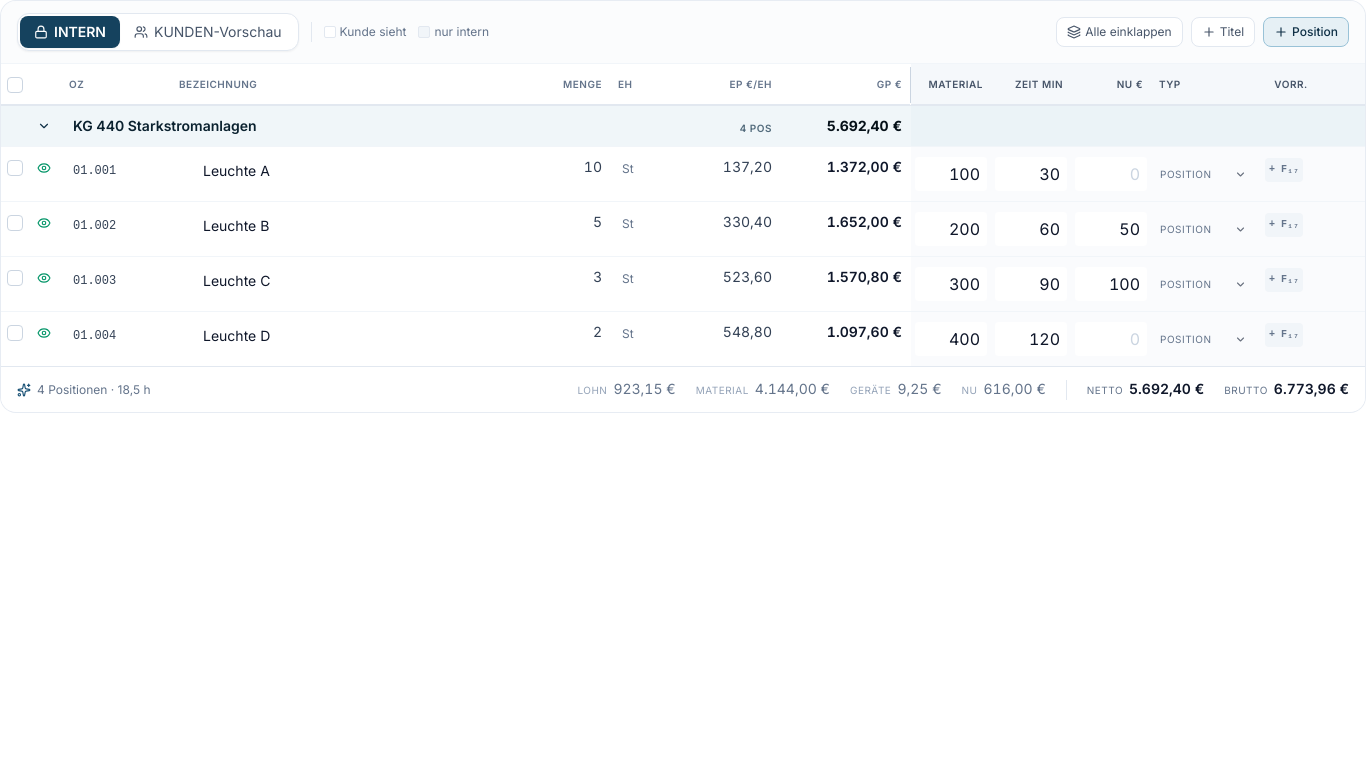
Test case: PositionTableV2 bulk-edit — selection mechanics › selecting a row shows the bulk bar with the correct count
Click the checkbox with test id "v2-select-row-r1" at (15, 168), box x1=7 y1=160 x2=23 y2=176
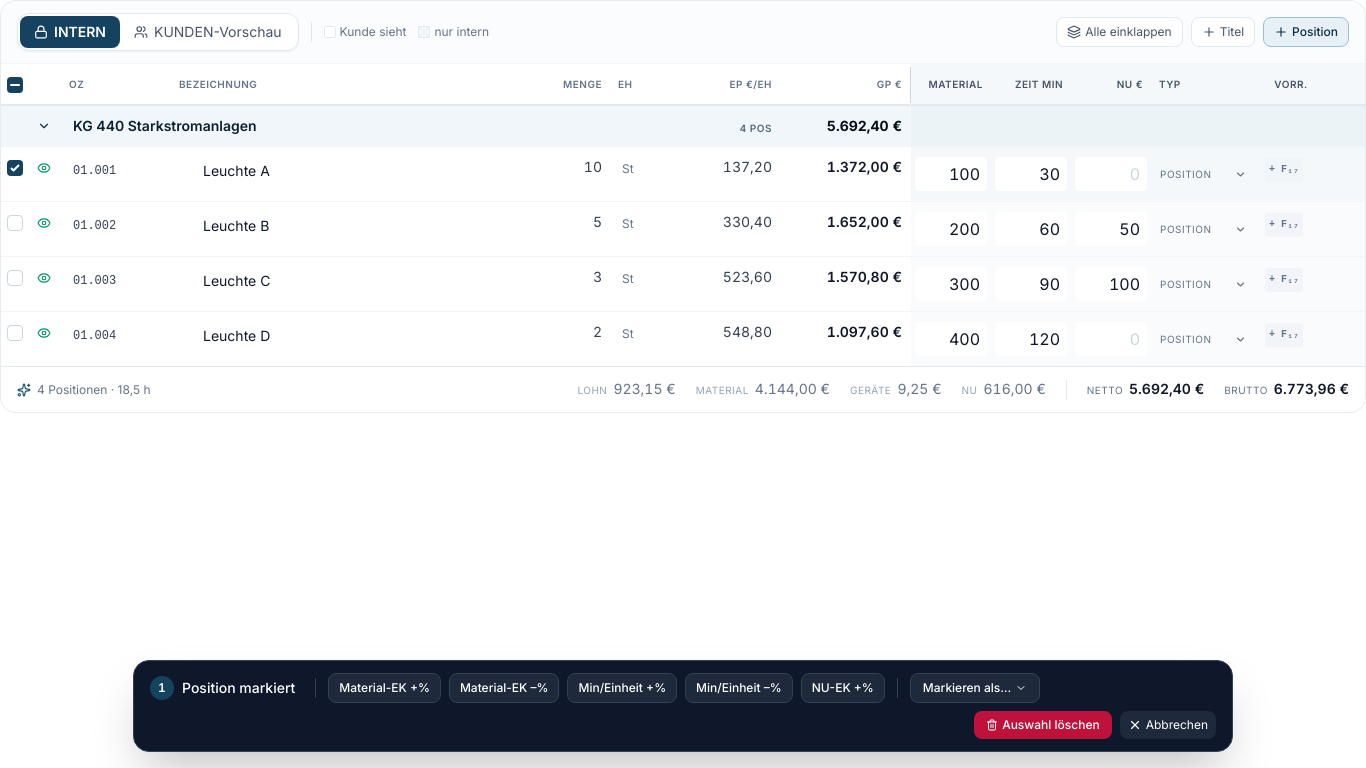
Check: the element with test id "v2-bulk-bar" is shown, box x1=133 y1=660 x2=1233 y2=752
Check: the element with test id "v2-bulk-bar" shows "1", box x1=158 y1=680 x2=166 y2=695
Check: the element with test id "v2-bulk-bar" shows "Position markiert", box x1=182 y1=679 x2=295 y2=696
// Add a second selection → bar shows "2 Positionen markiert"
Click the checkbox with test id "v2-select-row-r2" at (15, 224), box x1=7 y1=216 x2=23 y2=232
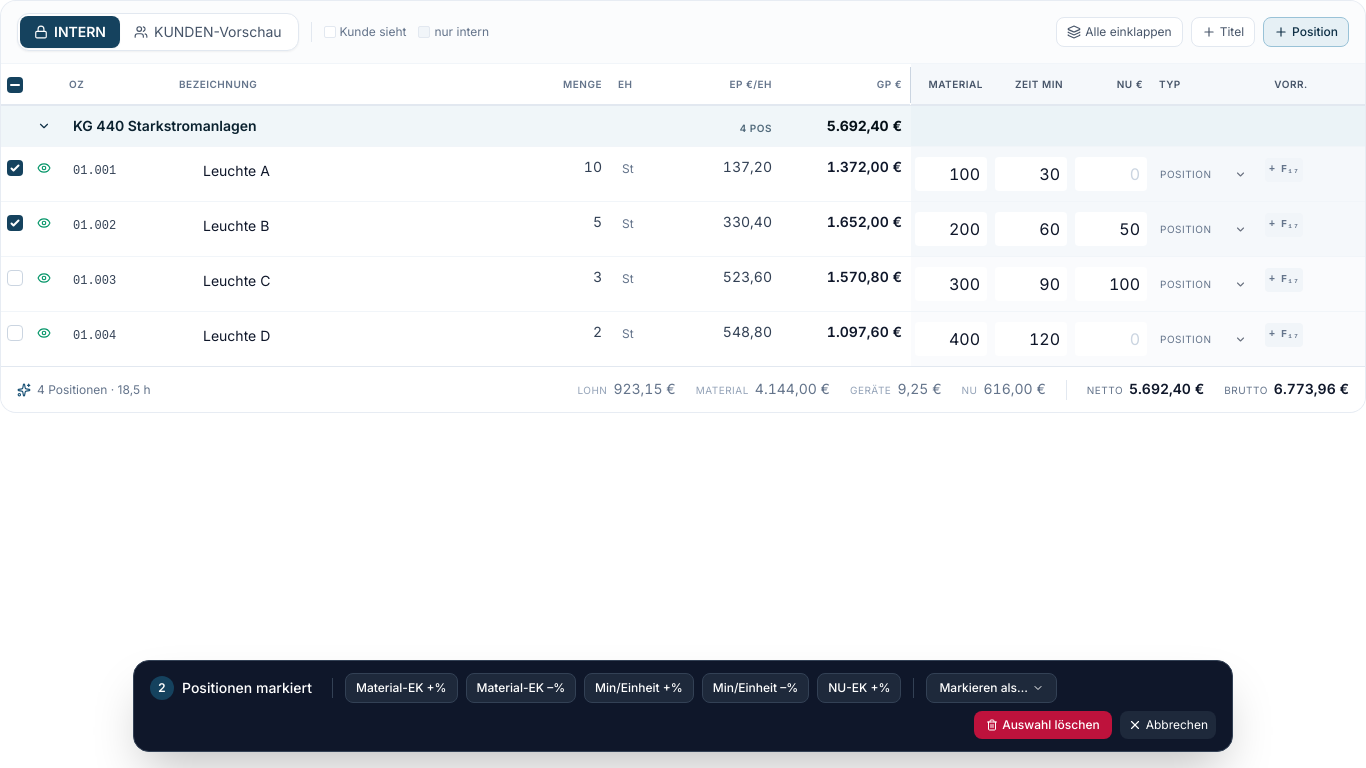
Check: the element with test id "v2-bulk-bar" shows "2", box x1=158 y1=680 x2=166 y2=695
Check: the element with test id "v2-bulk-bar" shows "Positionen markiert", box x1=182 y1=679 x2=312 y2=696
